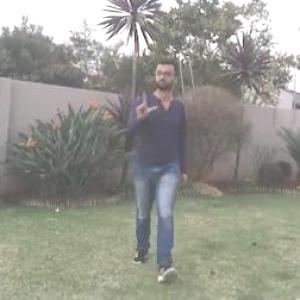land_hand: (128, 82, 158, 124)
